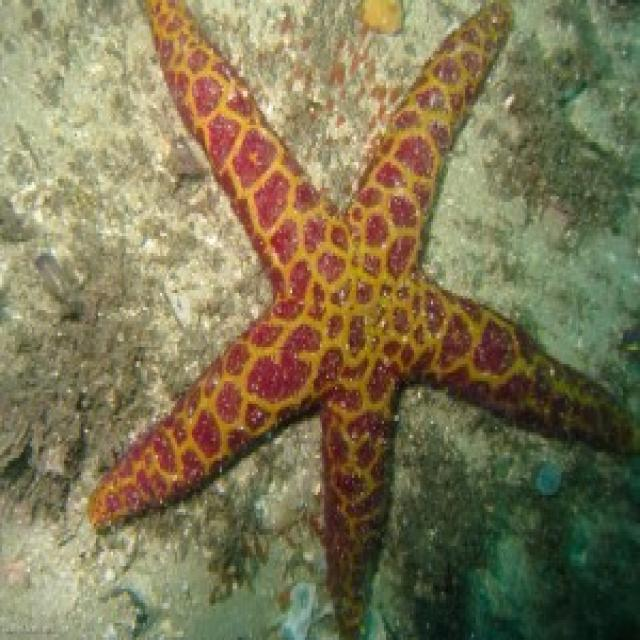Starfish: (80, 0, 636, 636)
